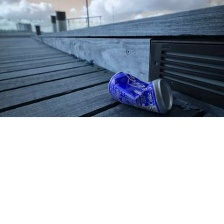can: (103, 66, 179, 118)
